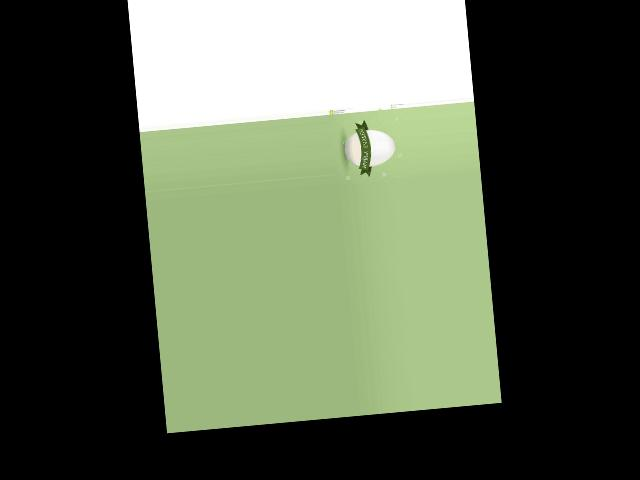egg: (343, 127, 396, 167)
